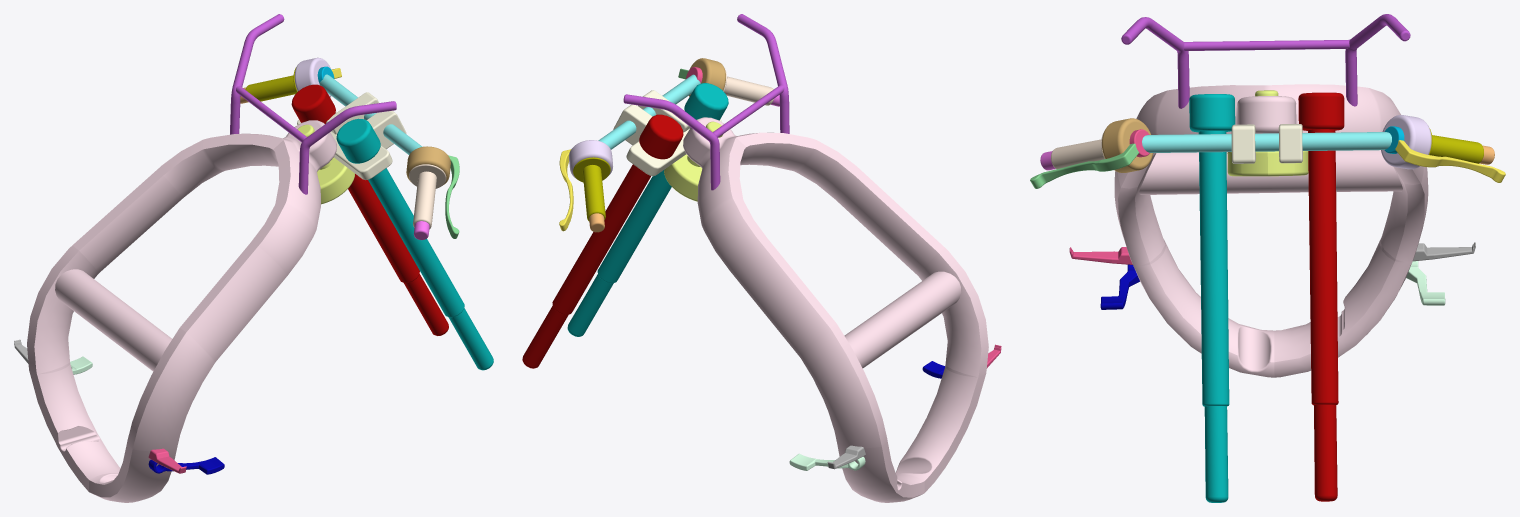
The model's file is swingarm_linkage.glb.
The picture shows the model from 3 angles, left to right: view 1: azimuth 30°, elevation 25°; view 2: azimuth 150°, elevation 25°; view 3: azimuth 270°, elevation 25°; orthographic projection. The views are drawn at different scales.
Parts seen in each view (by area): view 1: User Library-racing bike_racing bike.sldasm-Part-25-1, User Library-racing bike_racing bike.sldasm-Part-26-1, User Library-racing bike_racing bike.sldasm-Part-36-1, User Library-racing bike_racing bike.sldasm-Part-16-1, User Library-racing bike_racing bike.sldasm-Part-30-1, User Library-racing bike_racing bike.sldasm-Part-45-1, User Library-racing bike_racing bike.sldasm-Part-19-1, User Library-racing bike_racing bike.sldasm-Part-17-1, User Library-racing bike_racing bike.sldasm-Part-44-1, User Library-racing bike_racing bike.sldasm-Part-29-1, User Library-racing bike_racing bike.sldasm-Part-28-1, User Library-racing bike_racing bike.sldasm-Part-5-1 (+1 smaller); view 2: User Library-racing bike_racing bike.sldasm-Part-25-1, User Library-racing bike_racing bike.sldasm-Part-36-1, User Library-racing bike_racing bike.sldasm-Part-26-1, User Library-racing bike_racing bike.sldasm-Part-16-1, User Library-racing bike_racing bike.sldasm-Part-30-1, User Library-racing bike_racing bike.sldasm-Part-44-1, User Library-racing bike_racing bike.sldasm-Part-19-1, User Library-racing bike_racing bike.sldasm-Part-17-1, User Library-racing bike_racing bike.sldasm-Part-45-1, User Library-racing bike_racing bike.sldasm-Part-28-1, User Library-racing bike_racing bike.sldasm-Part-29-1, User Library-racing bike_racing bike.sldasm-Part-4-1 (+1 smaller); view 3: User Library-racing bike_racing bike.sldasm-Part-25-1, User Library-racing bike_racing bike.sldasm-Part-36-1, User Library-racing bike_racing bike.sldasm-Part-26-1, User Library-racing bike_racing bike.sldasm-Part-16-1, User Library-racing bike_racing bike.sldasm-Part-17-1, User Library-racing bike_racing bike.sldasm-Part-30-1, User Library-racing bike_racing bike.sldasm-Part-19-1, User Library-racing bike_racing bike.sldasm-Part-28-1, User Library-racing bike_racing bike.sldasm-Part-29-1, User Library-racing bike_racing bike.sldasm-Part-13-1, User Library-racing bike_racing bike.sldasm-Part-12-1, User Library-racing bike_racing bike.sldasm-Part-44-1 (+5 smaller).
Boxes of the visible parts, x1=… form: User Library-racing bike_racing bike.sldasm-Part-25-1: x1=27, y1=120, x2=336, y2=502; User Library-racing bike_racing bike.sldasm-Part-26-1: x1=336, y1=118, x2=493, y2=370; User Library-racing bike_racing bike.sldasm-Part-36-1: x1=291, y1=84, x2=448, y2=335; User Library-racing bike_racing bike.sldasm-Part-16-1: x1=230, y1=14, x2=396, y2=194; User Library-racing bike_racing bike.sldasm-Part-30-1: x1=297, y1=92, x2=406, y2=179; User Library-racing bike_racing bike.sldasm-Part-45-1: x1=409, y1=164, x2=446, y2=229; User Library-racing bike_racing bike.sldasm-Part-19-1: x1=297, y1=124, x2=354, y2=204; User Library-racing bike_racing bike.sldasm-Part-17-1: x1=319, y1=74, x2=422, y2=154; User Library-racing bike_racing bike.sldasm-Part-44-1: x1=245, y1=67, x2=297, y2=101; User Library-racing bike_racing bike.sldasm-Part-29-1: x1=406, y1=146, x2=450, y2=185; User Library-racing bike_racing bike.sldasm-Part-28-1: x1=294, y1=57, x2=331, y2=97; User Library-racing bike_racing bike.sldasm-Part-5-1: x1=148, y1=457, x2=224, y2=474; User Library-racing bike_racing bike.sldasm-Part-25-1: x1=683, y1=117, x2=988, y2=502; User Library-racing bike_racing bike.sldasm-Part-36-1: x1=522, y1=114, x2=683, y2=368; User Library-racing bike_racing bike.sldasm-Part-26-1: x1=567, y1=83, x2=728, y2=336; User Library-racing bike_racing bike.sldasm-Part-16-1: x1=623, y1=14, x2=789, y2=190; User Library-racing bike_racing bike.sldasm-Part-30-1: x1=613, y1=90, x2=721, y2=176; User Library-racing bike_racing bike.sldasm-Part-44-1: x1=573, y1=157, x2=610, y2=221; User Library-racing bike_racing bike.sldasm-Part-19-1: x1=664, y1=121, x2=723, y2=201; User Library-racing bike_racing bike.sldasm-Part-17-1: x1=598, y1=74, x2=700, y2=149; User Library-racing bike_racing bike.sldasm-Part-45-1: x1=723, y1=68, x2=773, y2=105; User Library-racing bike_racing bike.sldasm-Part-28-1: x1=569, y1=140, x2=612, y2=178; User Library-racing bike_racing bike.sldasm-Part-29-1: x1=689, y1=58, x2=725, y2=96; User Library-racing bike_racing bike.sldasm-Part-4-1: x1=789, y1=453, x2=865, y2=470; User Library-racing bike_racing bike.sldasm-Part-25-1: x1=1114, y1=84, x2=1428, y2=377; User Library-racing bike_racing bike.sldasm-Part-36-1: x1=1298, y1=92, x2=1344, y2=501; User Library-racing bike_racing bike.sldasm-Part-26-1: x1=1189, y1=94, x2=1235, y2=502; User Library-racing bike_racing bike.sldasm-Part-16-1: x1=1121, y1=14, x2=1410, y2=108; User Library-racing bike_racing bike.sldasm-Part-17-1: x1=1142, y1=132, x2=1391, y2=152; User Library-racing bike_racing bike.sldasm-Part-30-1: x1=1231, y1=124, x2=1302, y2=163; User Library-racing bike_racing bike.sldasm-Part-19-1: x1=1227, y1=90, x2=1308, y2=176; User Library-racing bike_racing bike.sldasm-Part-28-1: x1=1381, y1=115, x2=1431, y2=169; User Library-racing bike_racing bike.sldasm-Part-29-1: x1=1102, y1=118, x2=1153, y2=172; User Library-racing bike_racing bike.sldasm-Part-13-1: x1=1395, y1=140, x2=1505, y2=182; User Library-racing bike_racing bike.sldasm-Part-12-1: x1=1030, y1=143, x2=1138, y2=188; User Library-racing bike_racing bike.sldasm-Part-44-1: x1=1429, y1=128, x2=1483, y2=163.
Size of the model in its own units: 0.0594 by 0.0567 by 0.0518.
